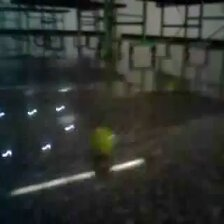tennis: (89, 126, 116, 156)
